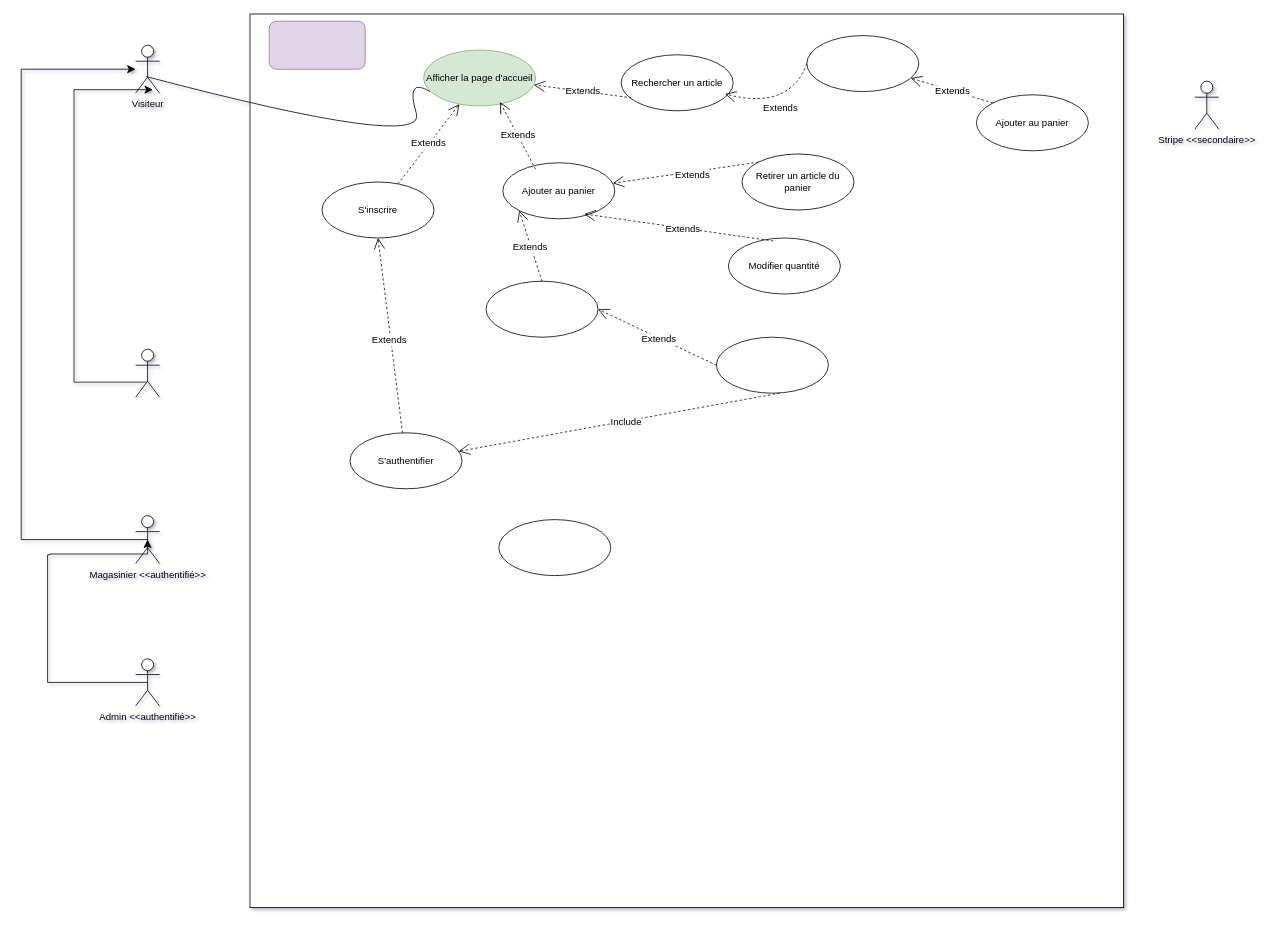
Image size: 1274x926. Some labels were removed from this diagram. Each missing label, with the centre of its shape:
"Afficher le détail article" goes at pixel 862 63.
"Retrouver son panier" goes at pixel 554 547.
"Système" goes at pixel 316 44.
"Utilisateur <<authentifié>>" goes at pixel 147 372.
"Valider la commande" goes at pixel 772 364.
"Valider le panier" goes at pixel 541 308.
